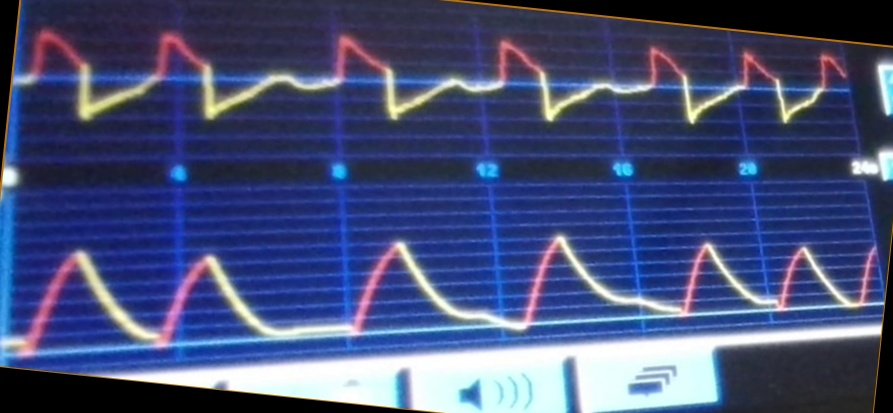Ineffective_effort Flow: (17, 16, 848, 136)
Ineffective_effort Volume: (15, 231, 877, 359)
